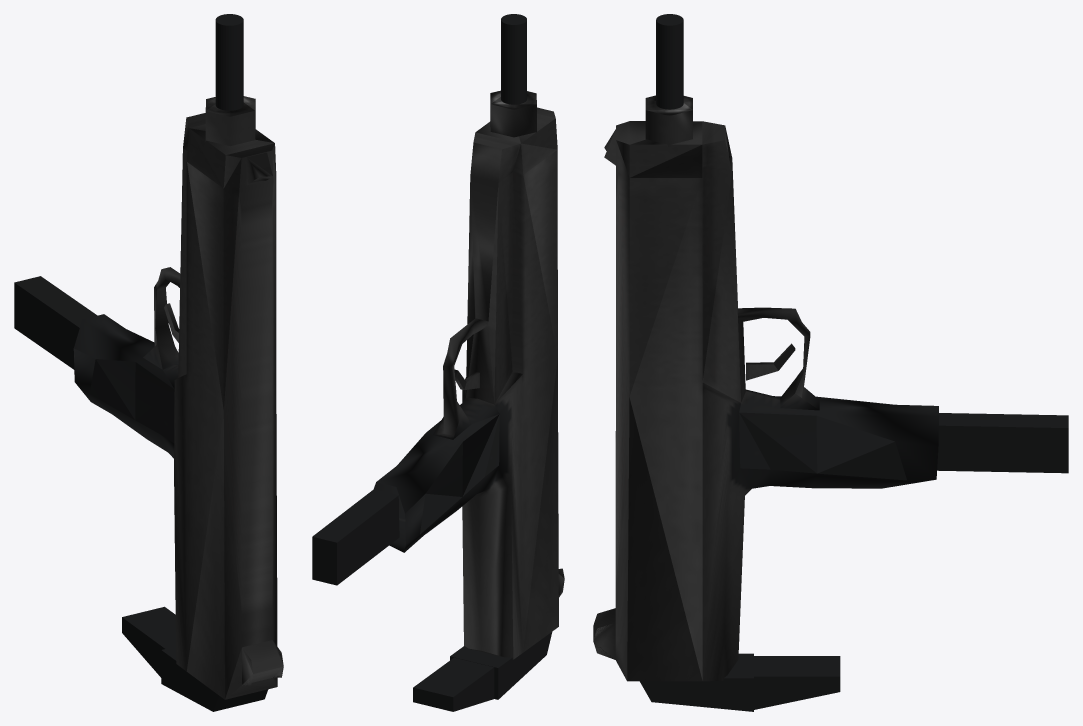
Rendered from UZI.fbx.
3 views of the same model, side by side, from view 1: azimuth 30°, elevation 25°; view 2: azimuth 150°, elevation 25°; view 3: azimuth 270°, elevation 25° (orthographic). The views are drawn at different scales.
Parts seen in each view (by area): view 1: node_7eb8945f_c9b5_4b90_a62e_b771b0daf3d9_mesh0; view 2: node_7eb8945f_c9b5_4b90_a62e_b771b0daf3d9_mesh0; view 3: node_7eb8945f_c9b5_4b90_a62e_b771b0daf3d9_mesh0.
Part boxes in pixels (bbox=[...]): node_7eb8945f_c9b5_4b90_a62e_b771b0daf3d9_mesh0: bbox=[14, 14, 283, 711]; node_7eb8945f_c9b5_4b90_a62e_b771b0daf3d9_mesh0: bbox=[312, 14, 564, 711]; node_7eb8945f_c9b5_4b90_a62e_b771b0daf3d9_mesh0: bbox=[593, 14, 1068, 711].
Size of the model in its own units: 0.0199 by 0.2485 by 0.1576.
